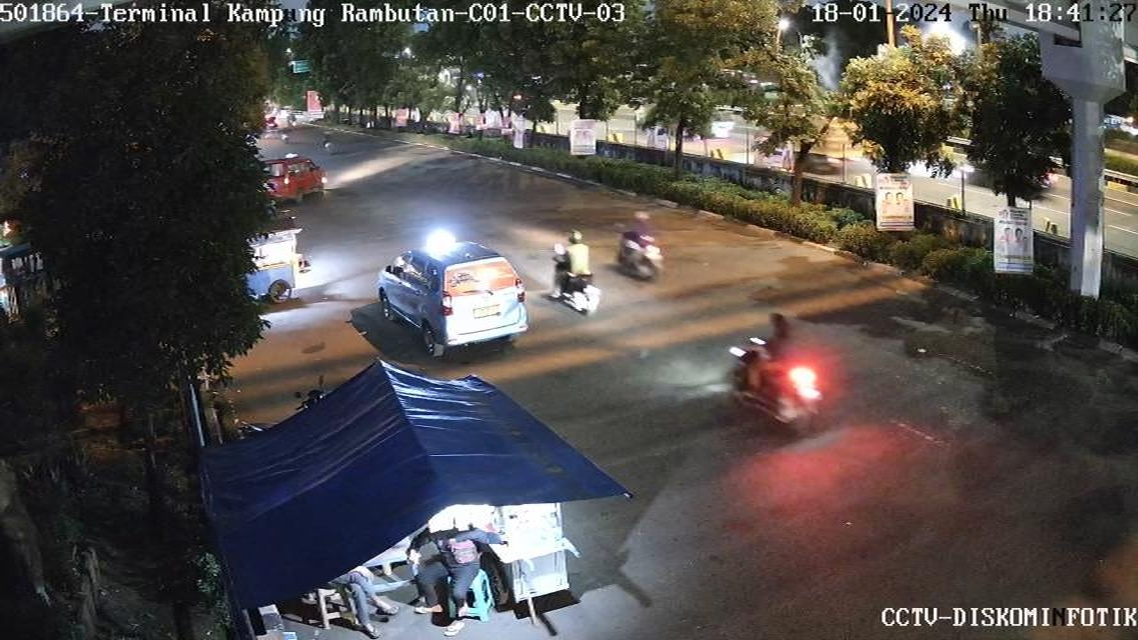Gerobak: (254, 232, 301, 293)
